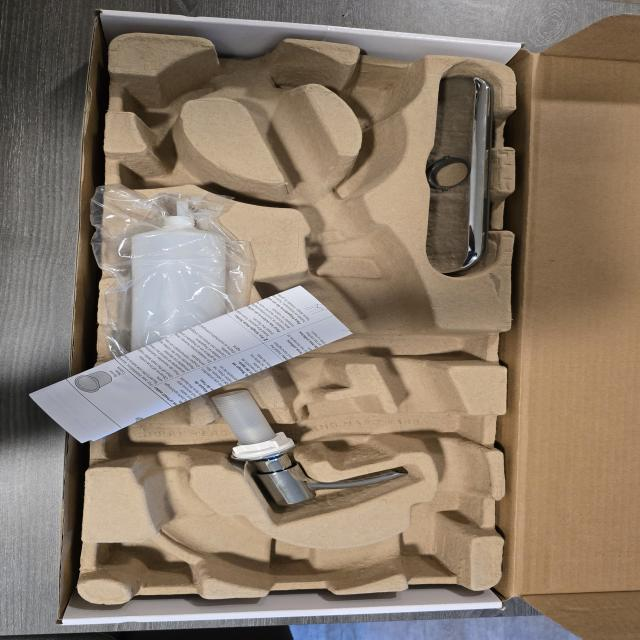1m: (103, 37, 489, 593)
2: (211, 390, 405, 510)
3o: (117, 196, 230, 370)
4: (428, 75, 491, 273)
5m: (353, 77, 408, 118)
6m: (114, 70, 222, 128)
7m: (120, 135, 245, 203)
8: (29, 284, 353, 445)
